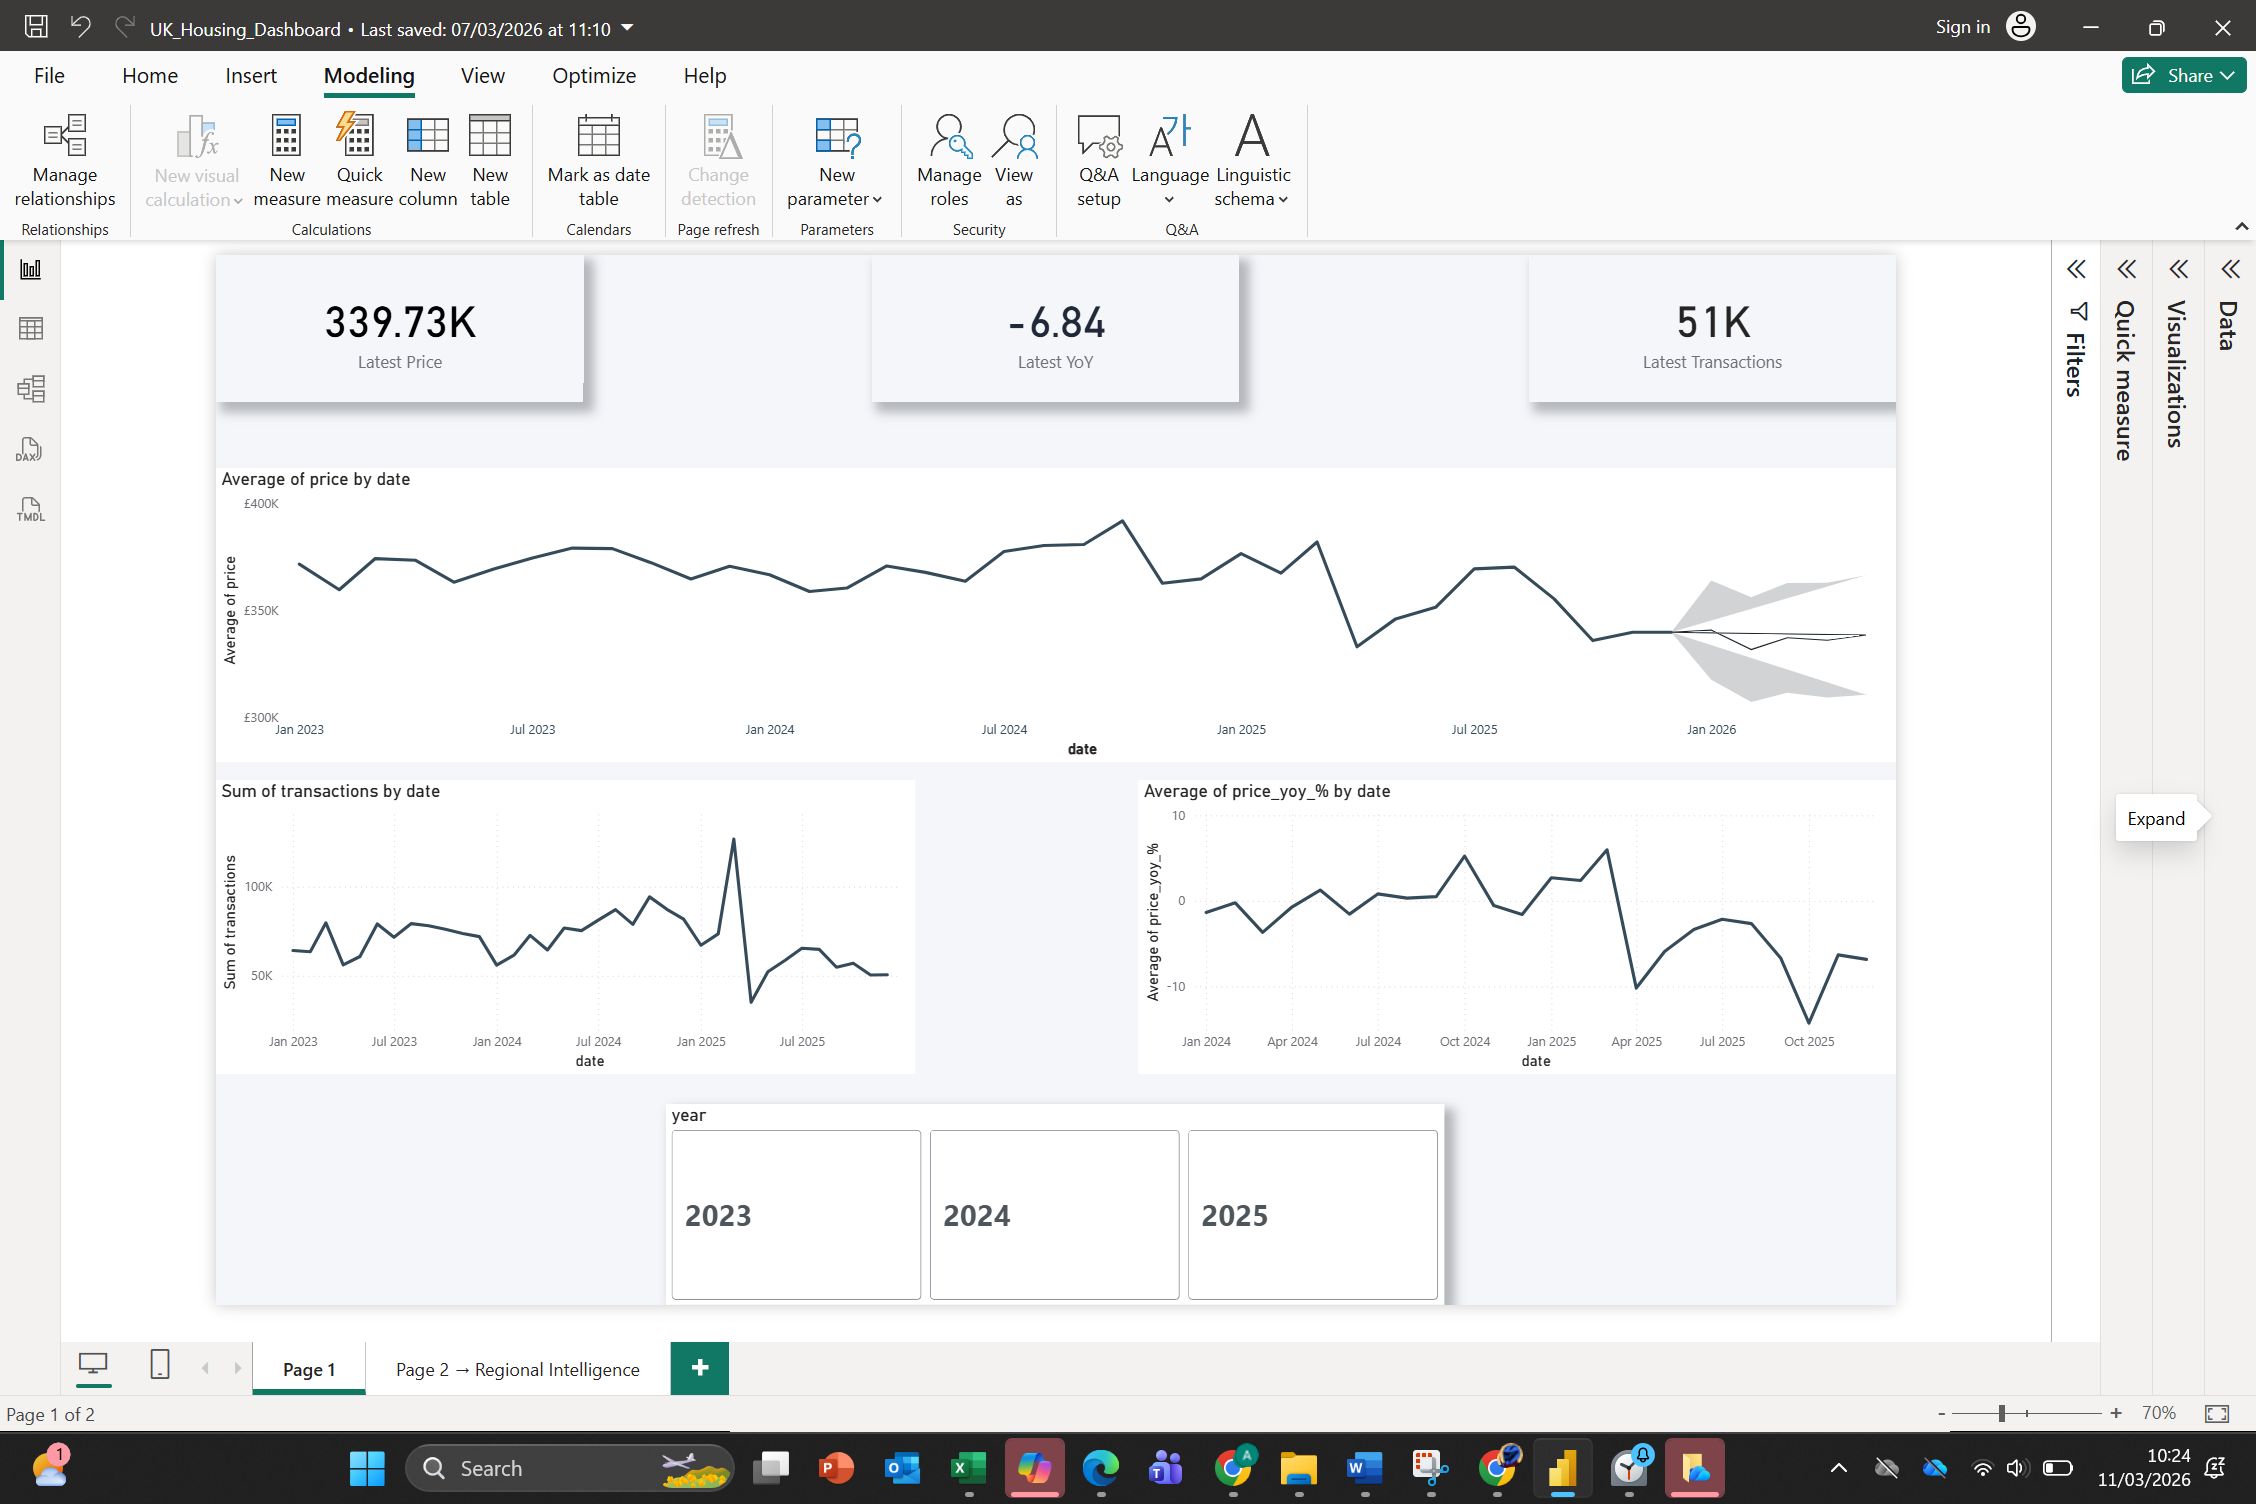

The dashboard page shown, as its layout file describes it:
{"tool":"powerbi","page":{"name":"Page 1","canvas":[1600,1000],"ordinal":0},"visuals":[{"type":"lineChart","fields":{"Y":["Avg(monthly_avg.price)"],"Category":["monthly_avg.date"]},"box":[0,203.3,1600,280],"z":0},{"type":"lineChart","fields":{"Y":["Avg(monthly_avg.price_yoy_%)"],"Category":["monthly_avg.date"]},"box":[878,500,722,280],"z":1000},{"type":"lineChart","fields":{"Y":["Sum(monthly_volume.transactions)"],"Category":["monthly_volume.date"]},"box":[0,500,666,280],"z":2000},{"type":"card","fields":{"Values":["monthly_avg.Latest Price"]},"box":[0,0,350,140],"z":3000},{"type":"card","fields":{"Values":["monthly_avg.Latest Transactions"]},"box":[1250,0,350,140],"z":5000},{"type":"advancedSlicerVisual","fields":{"Values":["monthly_avg.year"]},"box":[430,808.3,741.7,191.7],"z":6000},{"type":"card","fields":{"Values":["monthly_avg.Latest YoY"]},"box":[624,0,350,140],"z":7000}]}

Visuals, with their boxes on the page's 1600x1000 design canvas (x1, y1, x2, y2). These are canvas units, not pixel positions in the 2256x1504 screenshot, which may show the page scaled, cropped or inside an application window:
lineChart - Avg(monthly_avg.price) x monthly_avg.date: 0:203:1600:483
lineChart - Avg(monthly_avg.price_yoy_%) x monthly_avg.date: 878:500:1600:780
lineChart - Sum(monthly_volume.transactions) x monthly_volume.date: 0:500:666:780
card - monthly_avg.Latest Price: 0:0:350:140
card - monthly_avg.Latest Transactions: 1250:0:1600:140
advancedSlicerVisual - monthly_avg.year: 430:808:1172:1000
card - monthly_avg.Latest YoY: 624:0:974:140
